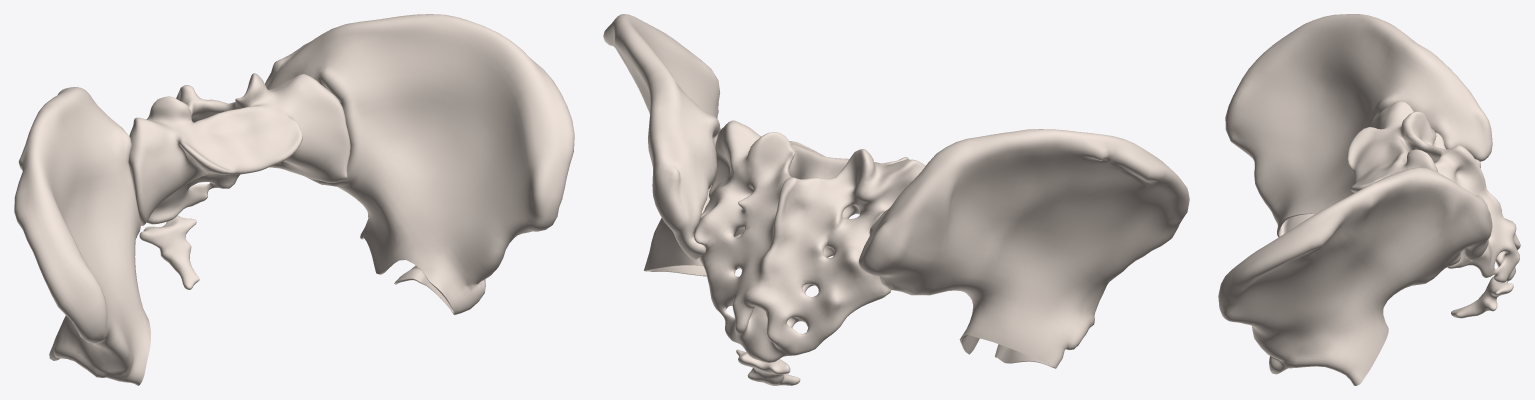
Rendered from pelvis-bones.glb.
3 views of the same model, side by side, from view 1: azimuth 30°, elevation 25°; view 2: azimuth 150°, elevation 25°; view 3: azimuth 270°, elevation 25° (orthographic). The views are drawn at different scales.
Visible parts, largest first — view 1: VH_F_ilium_compact_bone_L, VH_F_ilium_compact_bone_R, VH_F_sacrum, VH_F_coccyx; view 2: VH_F_ilium_compact_bone_R, VH_F_sacrum, VH_F_ilium_compact_bone_L, VH_F_coccyx; view 3: VH_F_ilium_compact_bone_L, VH_F_ilium_compact_bone_R, VH_F_sacrum, VH_F_coccyx.
Part boxes in pixels (left/top/right/bottom): VH_F_ilium_compact_bone_L: left=265, top=14, right=574, bottom=315; VH_F_ilium_compact_bone_R: left=14, top=87, right=150, bottom=385; VH_F_sacrum: left=128, top=73, right=350, bottom=225; VH_F_coccyx: left=139, top=215, right=199, bottom=289; VH_F_ilium_compact_bone_R: left=858, top=129, right=1189, bottom=368; VH_F_sacrum: left=693, top=120, right=925, bottom=362; VH_F_ilium_compact_bone_L: left=603, top=14, right=741, bottom=276; VH_F_coccyx: left=736, top=349, right=800, bottom=385; VH_F_ilium_compact_bone_L: left=1218, top=167, right=1492, bottom=385; VH_F_ilium_compact_bone_R: left=1225, top=14, right=1492, bottom=237; VH_F_sacrum: left=1347, top=101, right=1520, bottom=282; VH_F_coccyx: left=1451, top=276, right=1513, bottom=318.
Bounding box in the file's own units: 0.3168 × 0.1464 × 0.1827.
